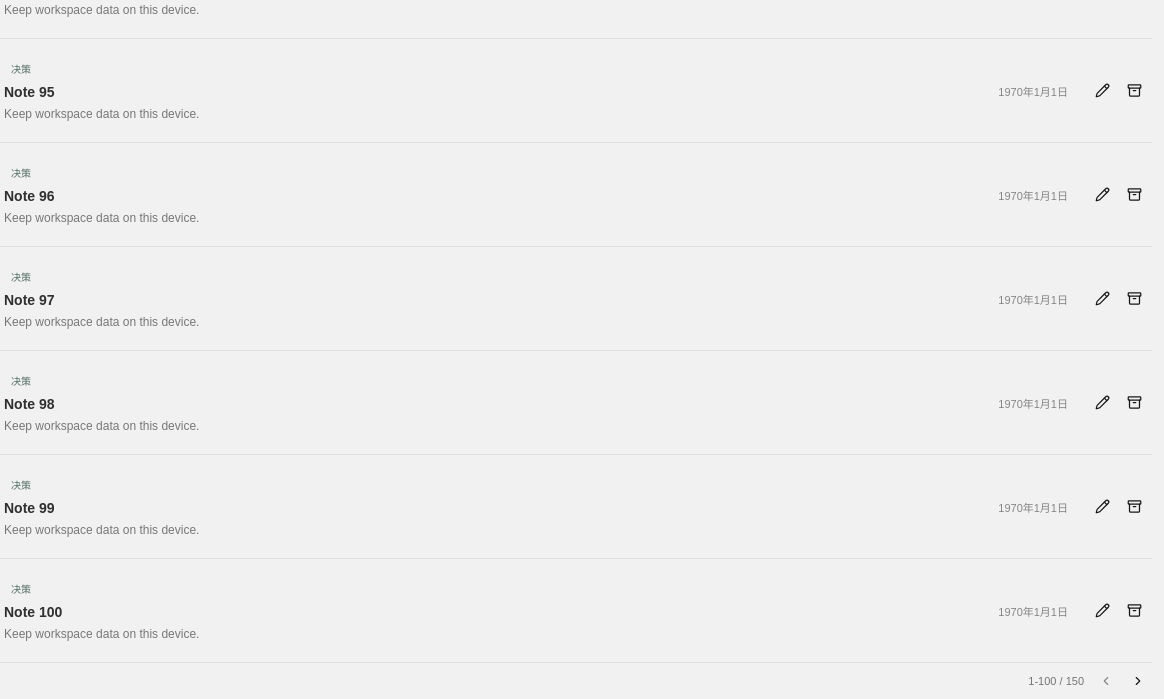
Test case: KnowledgeNotesPanel › paginates more than 100 notes before creating row DOM
The image size is (1164, 699).
(page scrolled)
Expected: the text "1-100 / 150" is shown, [1028,675,1084,687]
Click the button named "下一页": (1138, 681) [1124,667,1152,695]
(page scrolled)
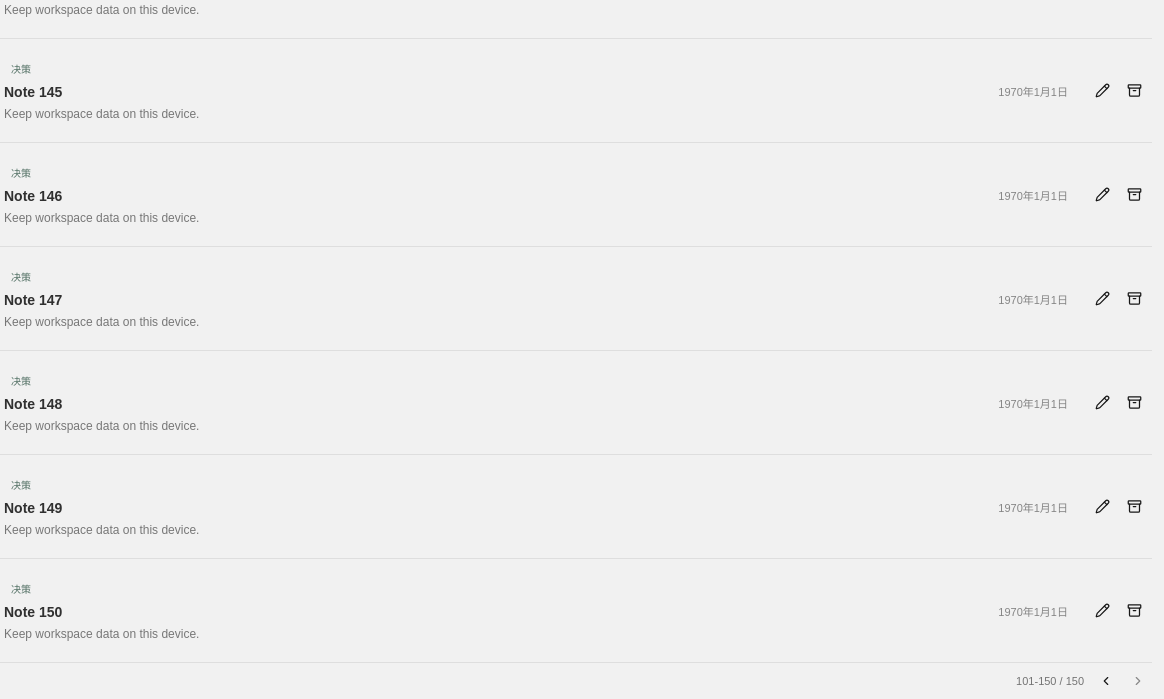
Expected: the text "101-150 / 150" is shown, [1016,675,1084,687]
